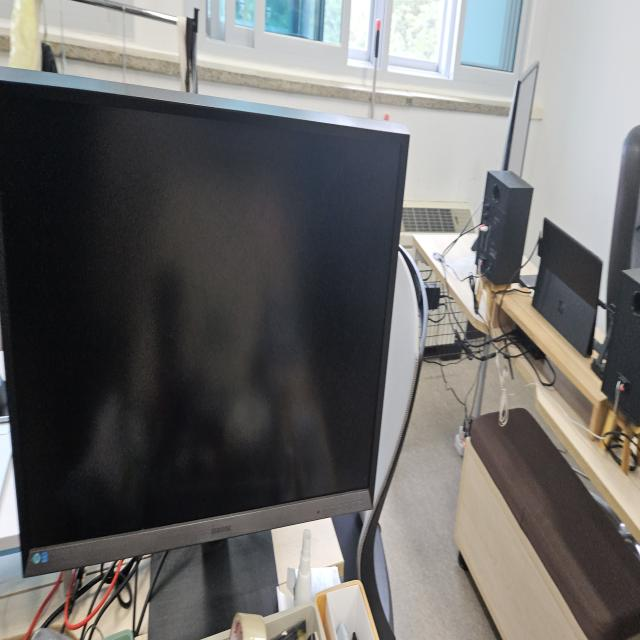Monitor: (1, 62, 411, 579)
